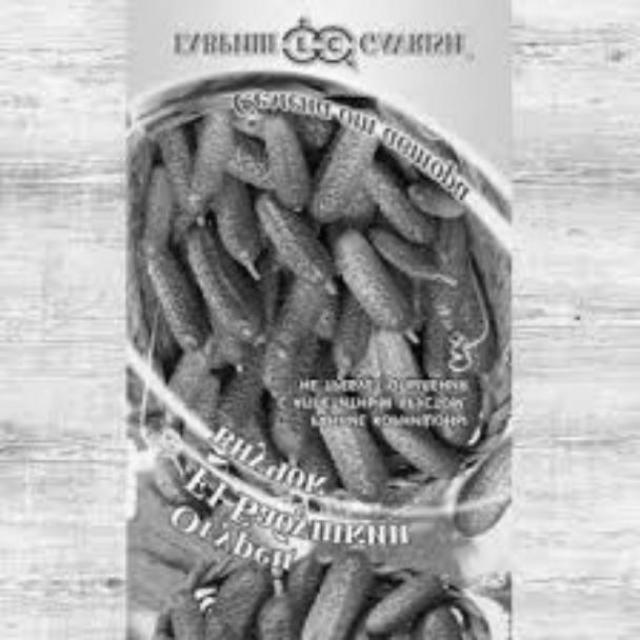cucumber: (142, 109, 523, 478), (142, 501, 502, 640)
